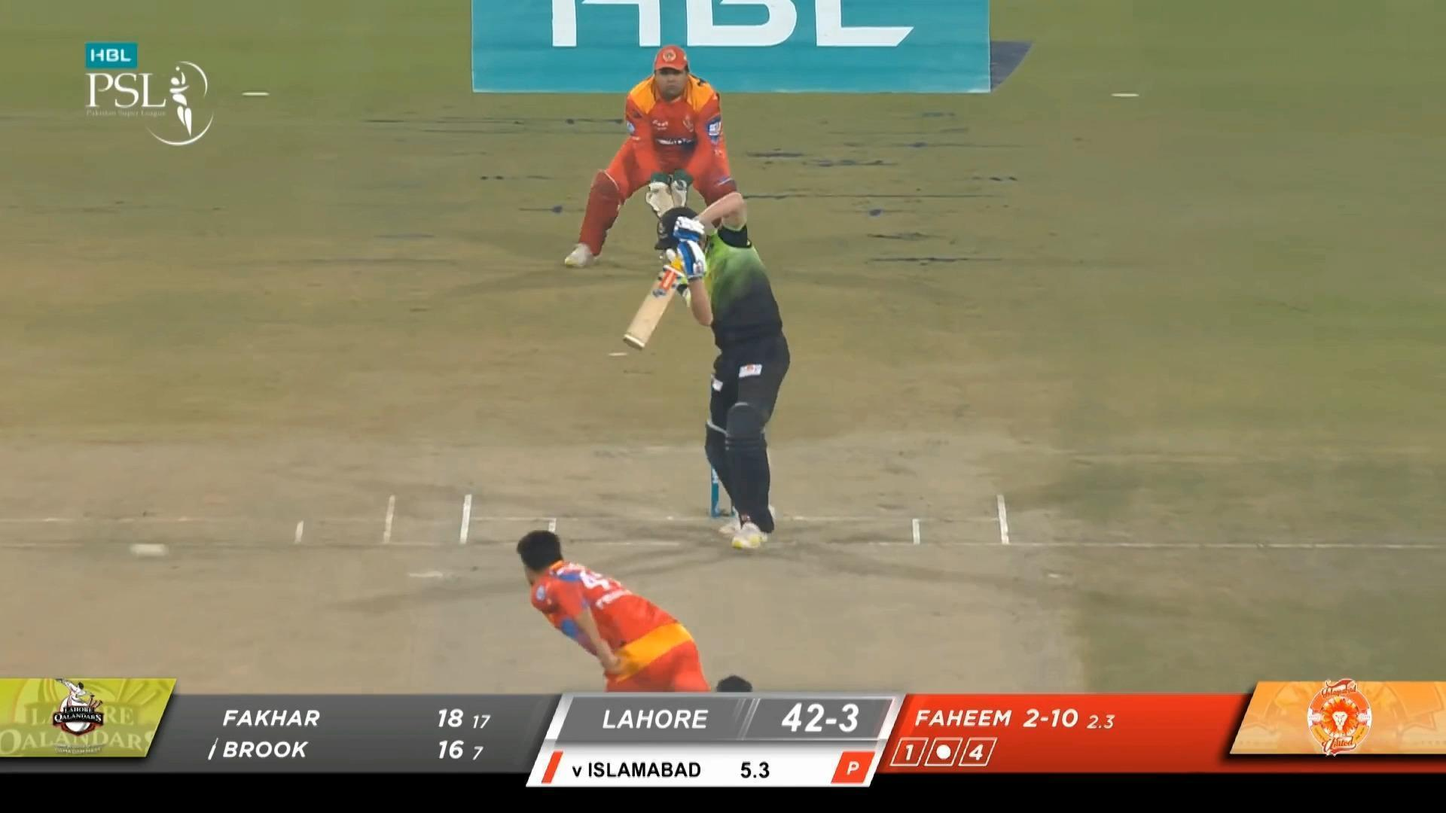BM 1: (622, 191, 791, 551)
BO: (515, 529, 709, 693)
